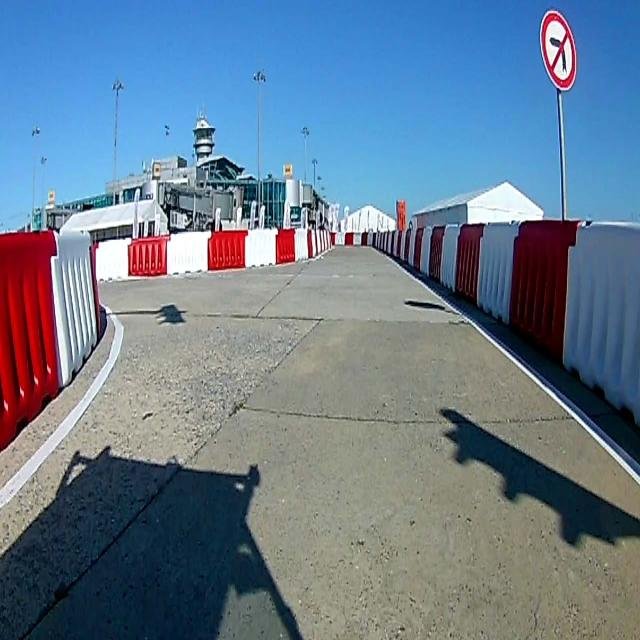soladonulmez: (539, 10, 576, 87)
